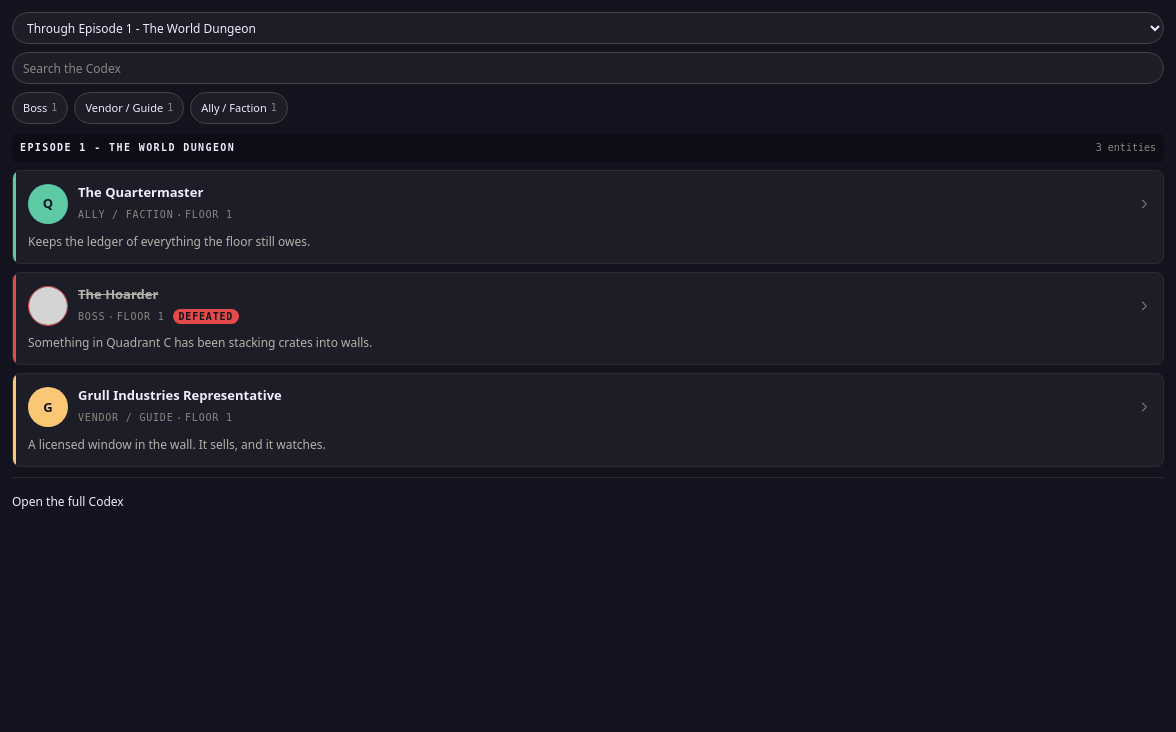
RegistryBrowser › narrows by search and by kind, as the page does
Expected: the element with test id "registry-section-1" is shown, [12,134,1164,467]
Step 1. Type "crate king" into the search field with test id "registry-search" → (588, 68), box [12,52,1164,84]
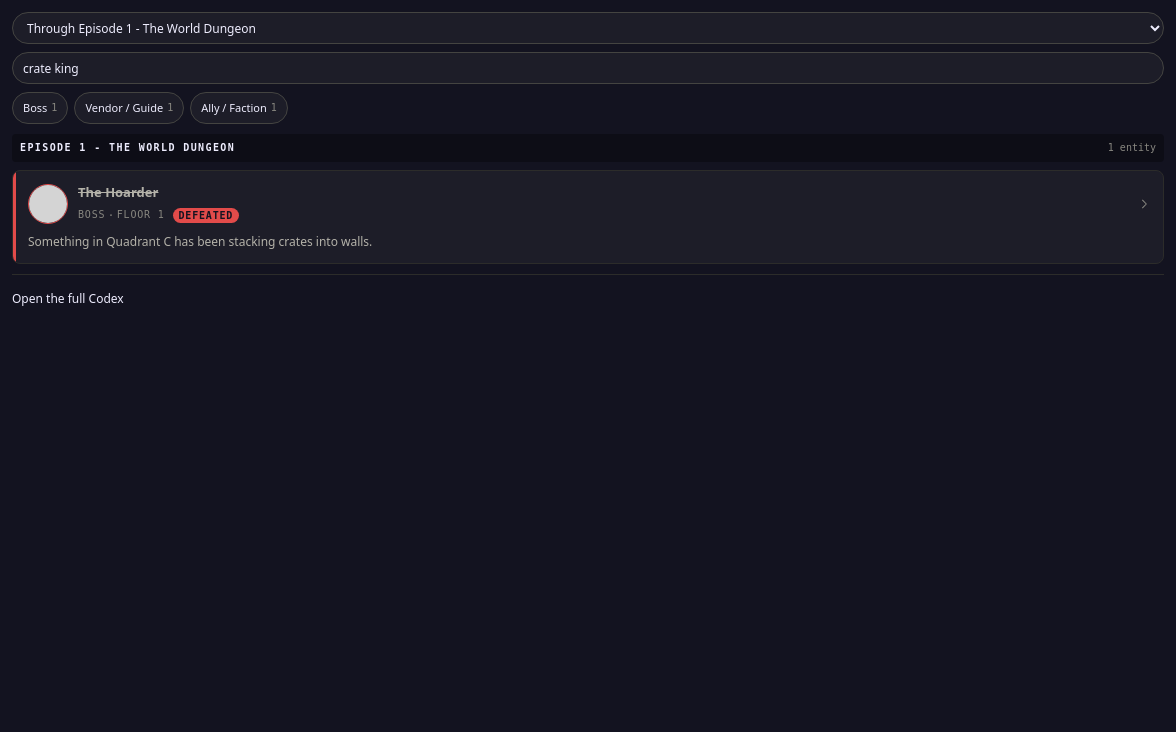
Step 2. Clear the search field with test id "registry-search" → (588, 68), box [12,52,1164,84]
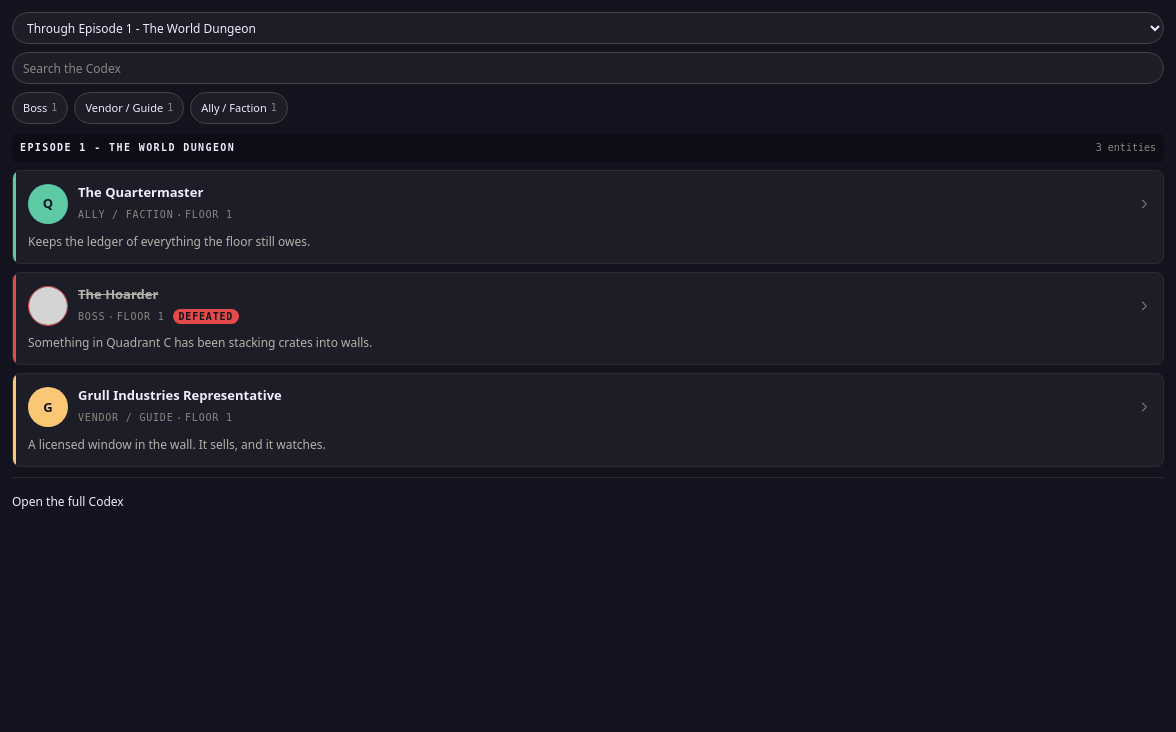
Step 3. Click the button with test id "registry-chip-ally" → click(239, 108), box [190,92,288,124]
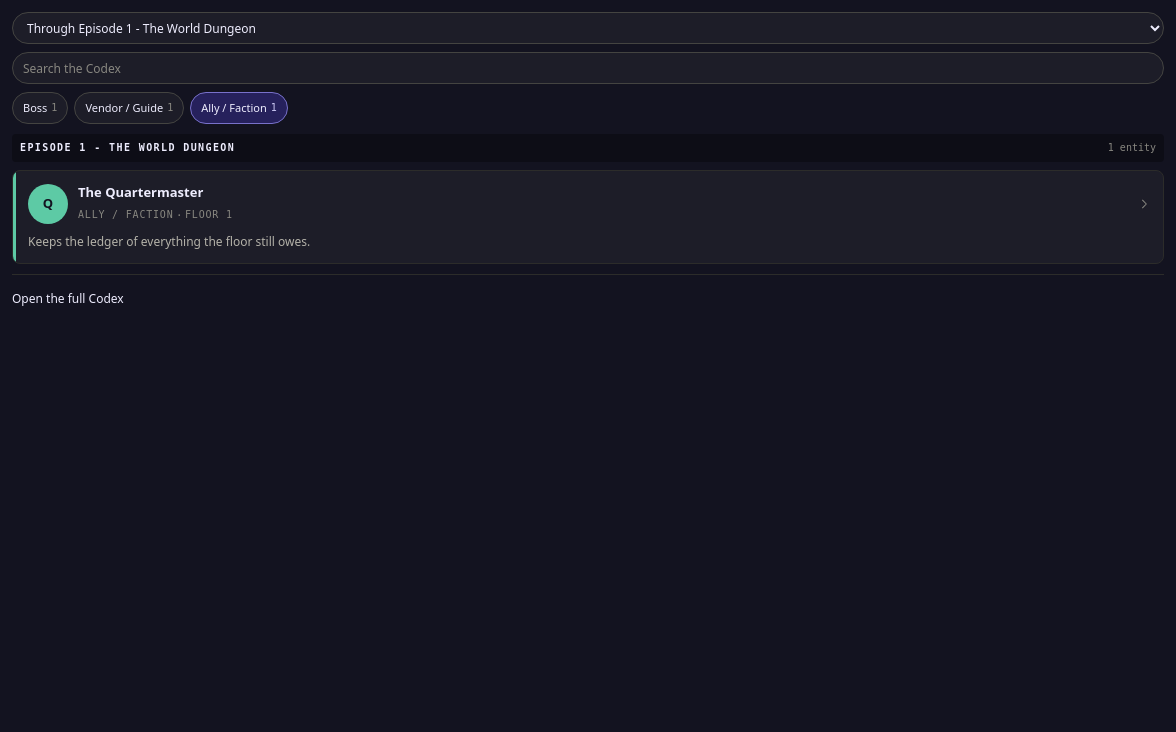
Step 4. Type "nobody" into the search field with test id "registry-search" → (588, 68), box [12,52,1164,84]
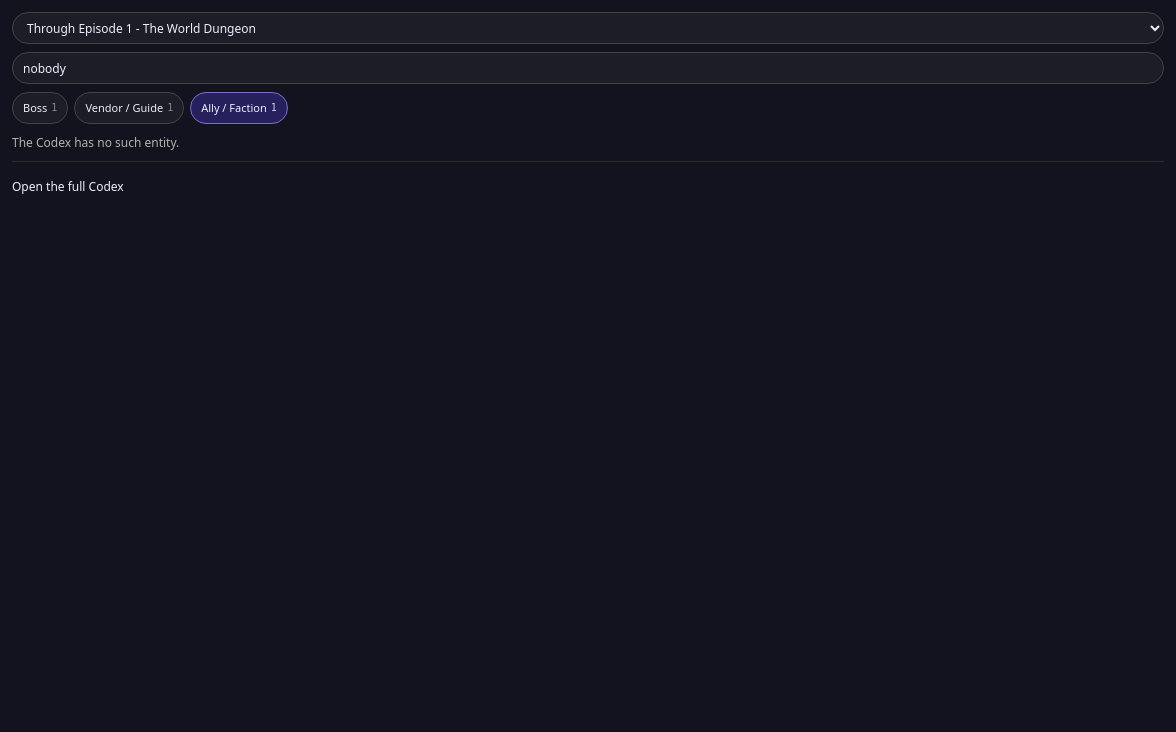
Result: the text with test id "registry-empty" reads "The Codex has no such entity." at [12,134,179,151]
